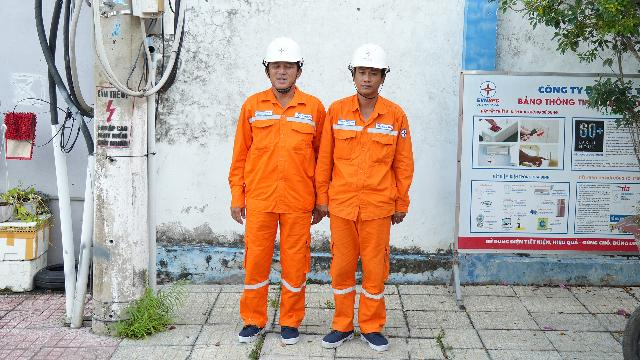helmet: (266, 29, 312, 74), (345, 41, 397, 74)
shoes: (312, 322, 360, 350), (235, 316, 276, 344), (360, 323, 392, 353), (274, 318, 302, 344)
